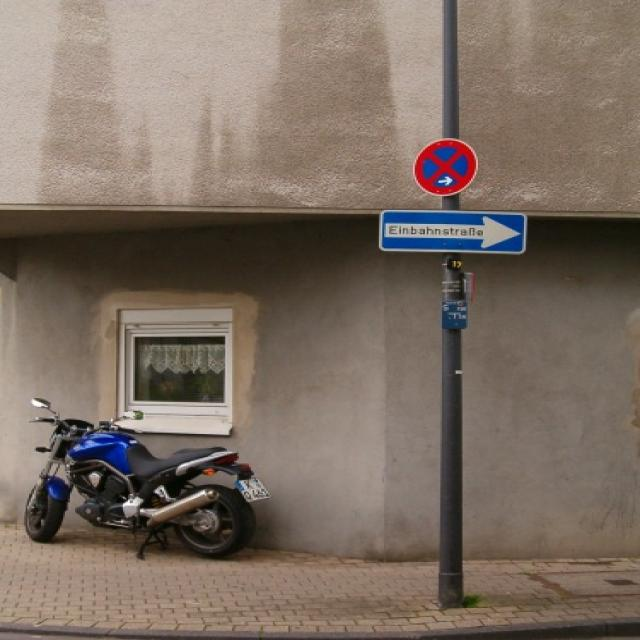motor: (13, 395, 272, 565)
